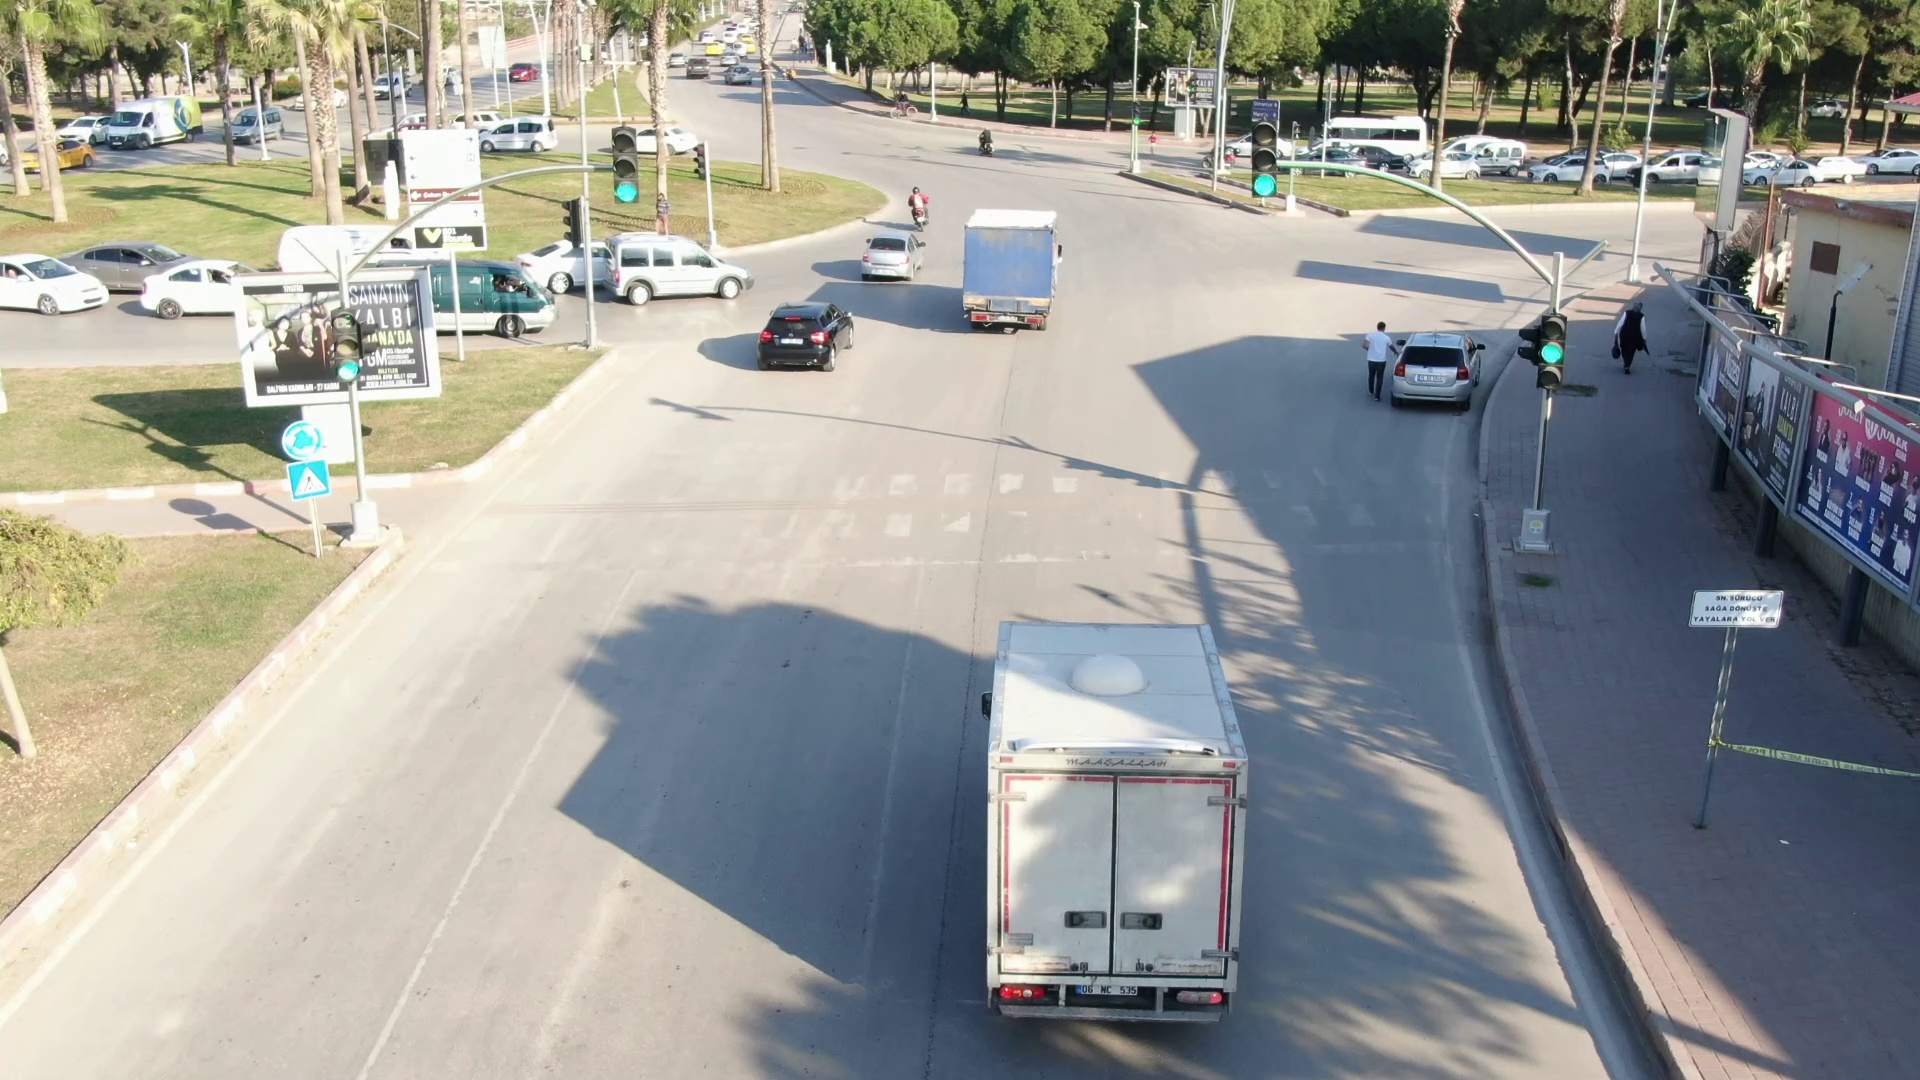car: (947, 192, 1074, 346), (602, 221, 756, 308), (752, 284, 866, 385), (434, 254, 574, 338), (1392, 318, 1488, 418), (100, 94, 207, 154), (848, 226, 929, 285), (1522, 146, 1611, 185)
person: (1609, 295, 1658, 379), (1352, 317, 1397, 405)
